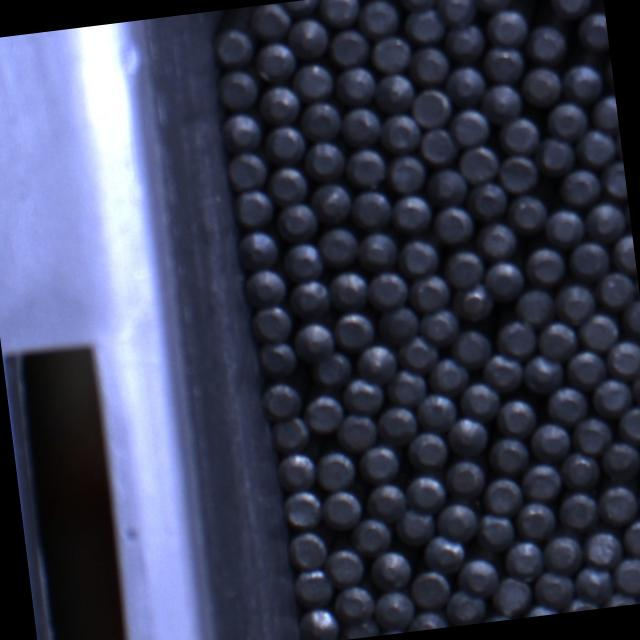tool: (432, 498, 480, 542), (551, 280, 596, 326), (583, 196, 628, 242), (594, 480, 639, 525), (456, 554, 502, 598), (422, 530, 468, 574), (446, 414, 491, 458), (286, 15, 331, 59), (531, 568, 576, 612), (561, 58, 606, 102), (520, 63, 564, 107), (542, 206, 586, 250), (541, 532, 585, 576), (544, 98, 588, 142), (490, 572, 534, 616), (520, 350, 564, 394), (502, 536, 546, 580), (572, 562, 616, 606), (450, 278, 494, 322), (512, 498, 557, 541), (402, 473, 447, 516), (588, 375, 632, 418), (253, 38, 296, 82), (318, 225, 362, 268), (480, 80, 524, 123), (524, 23, 568, 66), (368, 547, 412, 590), (445, 64, 488, 108), (407, 272, 452, 314), (493, 316, 538, 358), (321, 487, 364, 530), (411, 85, 454, 128), (365, 479, 408, 522), (597, 439, 640, 482), (481, 348, 524, 391), (577, 310, 621, 352), (520, 460, 564, 502), (393, 506, 437, 548), (570, 413, 614, 455), (580, 526, 624, 568), (522, 244, 566, 286), (528, 420, 572, 462), (546, 383, 590, 425), (336, 412, 380, 454), (414, 390, 458, 432), (312, 180, 354, 224), (558, 448, 602, 490), (398, 332, 442, 374), (374, 402, 418, 444), (244, 266, 288, 308), (383, 366, 428, 407), (294, 320, 336, 363), (303, 390, 346, 432), (533, 133, 575, 176), (538, 319, 580, 362), (316, 448, 358, 491), (409, 566, 452, 608), (483, 258, 525, 301), (355, 341, 398, 383), (266, 164, 308, 207), (373, 589, 416, 631), (434, 200, 477, 242), (475, 220, 518, 262), (328, 268, 371, 310), (568, 239, 612, 280), (559, 166, 603, 207), (442, 586, 486, 627), (496, 397, 540, 438), (485, 6, 529, 47), (442, 248, 486, 289), (334, 310, 376, 352), (302, 98, 344, 140), (342, 104, 384, 146), (226, 150, 268, 192), (380, 110, 422, 152), (217, 68, 259, 110), (236, 228, 278, 270), (212, 24, 254, 66), (426, 164, 468, 206), (513, 284, 556, 325), (407, 429, 450, 470), (458, 381, 501, 422), (303, 140, 346, 181), (374, 70, 417, 111), (350, 515, 394, 555), (496, 152, 540, 192), (358, 442, 402, 482), (426, 353, 470, 393), (594, 270, 636, 311), (258, 84, 300, 125), (264, 124, 306, 165), (283, 239, 325, 280), (480, 474, 523, 514), (329, 26, 372, 66), (367, 270, 410, 310), (487, 434, 530, 474), (398, 236, 441, 276), (389, 190, 432, 230), (273, 201, 316, 241), (335, 580, 378, 620), (341, 374, 384, 414), (377, 304, 420, 344), (247, 1, 291, 40), (288, 528, 329, 569), (452, 326, 493, 367), (358, 229, 399, 270), (477, 511, 518, 552), (556, 490, 598, 530), (576, 130, 618, 170), (458, 146, 500, 186), (564, 348, 606, 388), (346, 147, 388, 187), (420, 306, 462, 346), (446, 458, 488, 498), (334, 63, 376, 103), (498, 115, 540, 155), (486, 42, 528, 82), (283, 488, 324, 528), (263, 378, 304, 418), (451, 106, 492, 146), (323, 546, 364, 586), (508, 194, 549, 234), (351, 187, 392, 227), (278, 452, 318, 493), (224, 112, 265, 152), (258, 337, 299, 377), (294, 61, 336, 100), (405, 5, 447, 44), (287, 277, 329, 316), (602, 337, 640, 380), (386, 152, 426, 192), (294, 565, 334, 605), (272, 412, 312, 452), (370, 34, 412, 72), (252, 304, 294, 342), (359, 0, 402, 37), (412, 44, 451, 84), (237, 188, 276, 227), (312, 350, 352, 388), (297, 605, 339, 640), (576, 10, 610, 52), (419, 125, 456, 163), (610, 556, 640, 596), (318, 0, 361, 27), (599, 158, 627, 198), (610, 232, 636, 274), (614, 404, 640, 446), (590, 92, 618, 130), (435, 0, 477, 25), (406, 608, 450, 631), (620, 515, 640, 559), (548, 0, 593, 19), (558, 596, 602, 613), (621, 299, 640, 337), (600, 590, 638, 608), (520, 602, 560, 618), (398, 0, 442, 11), (629, 367, 640, 409), (471, 0, 515, 10), (478, 612, 514, 622)
